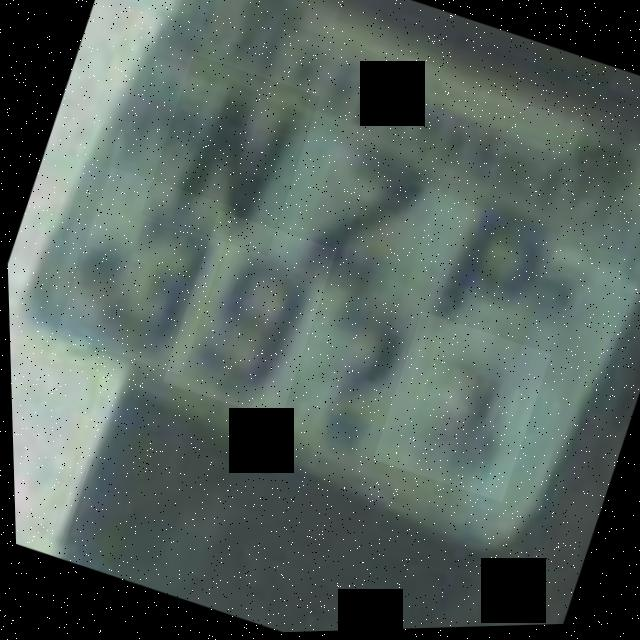2: (260, 256, 450, 472)
3: (50, 165, 239, 379), (367, 311, 552, 509)
9: (156, 209, 339, 425)
N: (136, 54, 323, 261)
P: (407, 203, 565, 360)
Z: (274, 125, 448, 317)
